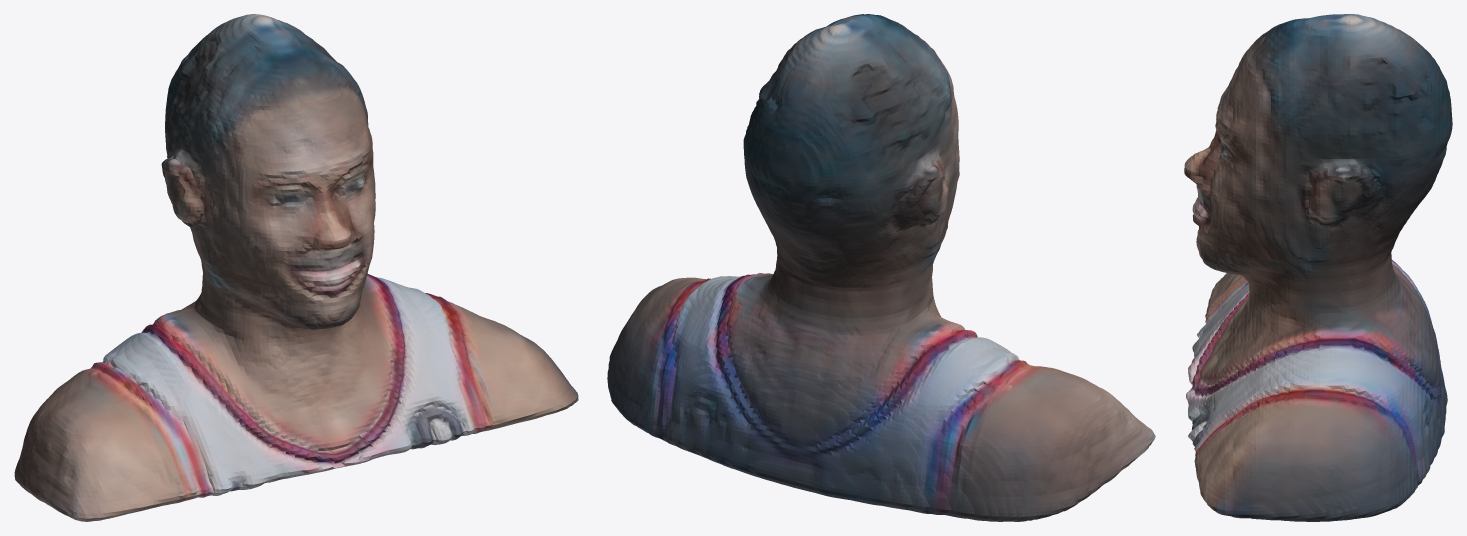
3 views of the same model, side by side, from view 1: azimuth 30°, elevation 25°; view 2: azimuth 150°, elevation 25°; view 3: azimuth 270°, elevation 25° (orthographic). The views are drawn at different scales.
Parts seen in each view (by area): view 1: geometry_0; view 2: geometry_0; view 3: geometry_0.
Boxes of the visible parts, <box> form: geometry_0: <box>14,14,578,521</box>; geometry_0: <box>607,14,1155,521</box>; geometry_0: <box>1184,14,1452,521</box>.
Bounding box in the file's own units: 1.01 × 0.816 × 0.482.
